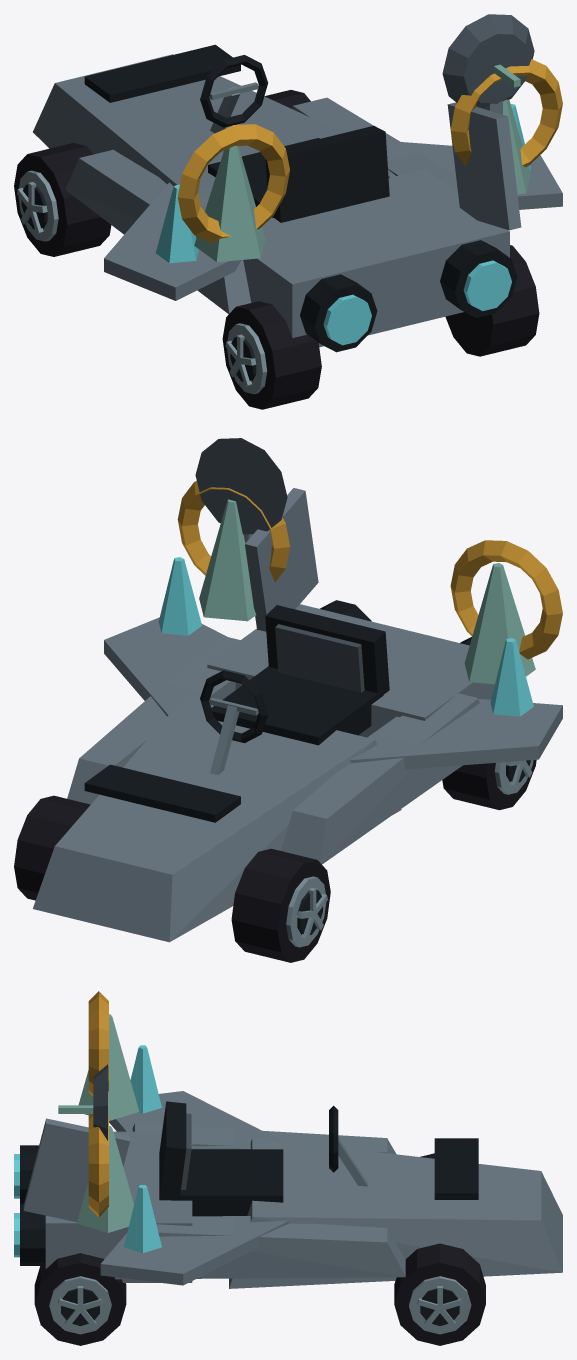
File: kart.glb
3 views of the same model, one above another, from view 1: azimuth 30°, elevation 25°; view 2: azimuth 150°, elevation 25°; view 3: azimuth 270°, elevation 25° (orthographic). The views are drawn at different scales.
Parts seen in each view (by area): view 1: identity-shuttle-shuttle-flight-planform, identity-shuttle-driver-cockpit, identity-shuttle-motif-ring, wheel-rear-left, identity-shuttle-motif-crystals, wheel-front-left, identity-shuttle-motif-radar, wheel-rear-right, wheel-front-right; view 2: identity-shuttle-shuttle-flight-planform, identity-shuttle-driver-cockpit, identity-shuttle-motif-crystals, wheel-front-left, identity-shuttle-motif-ring, identity-shuttle-motif-radar, wheel-front-right, wheel-rear-left; view 3: identity-shuttle-shuttle-flight-planform, identity-shuttle-driver-cockpit, wheel-front-right, identity-shuttle-motif-crystals, wheel-rear-right, identity-shuttle-motif-ring, identity-shuttle-motif-radar.
Boxes of the visible parts, x1,y1,x2,y2 form: identity-shuttle-shuttle-flight-planform: (33, 44, 562, 352); identity-shuttle-driver-cockpit: (200, 55, 389, 222); identity-shuttle-motif-ring: (177, 59, 562, 243); wheel-rear-left: (222, 301, 321, 409); identity-shuttle-motif-crystals: (155, 99, 530, 263); wheel-front-left: (14, 143, 111, 256); identity-shuttle-motif-radar: (442, 14, 534, 114); wheel-rear-right: (445, 245, 539, 356); wheel-front-right: (264, 90, 310, 108); identity-shuttle-shuttle-flight-planform: (33, 488, 562, 942); identity-shuttle-driver-cockpit: (200, 605, 389, 774); identity-shuttle-motif-crystals: (158, 499, 535, 716); wheel-front-left: (231, 848, 330, 962); identity-shuttle-motif-ring: (177, 481, 562, 659); identity-shuttle-motif-radar: (195, 438, 287, 542); wheel-front-right: (14, 795, 90, 900); wheel-rear-left: (442, 759, 536, 810); identity-shuttle-shuttle-flight-planform: (14, 1091, 562, 1288); identity-shuttle-driver-cockpit: (159, 1101, 368, 1216); wheel-front-right: (394, 1243, 485, 1345); identity-shuttle-motif-crystals: (76, 1014, 161, 1252); wheel-rear-right: (34, 1253, 126, 1345); identity-shuttle-motif-ring: (88, 991, 108, 1217); identity-shuttle-motif-radar: (58, 1064, 107, 1140).
Bounding box in the file's own units: 2.36 × 1.65 × 2.99.
